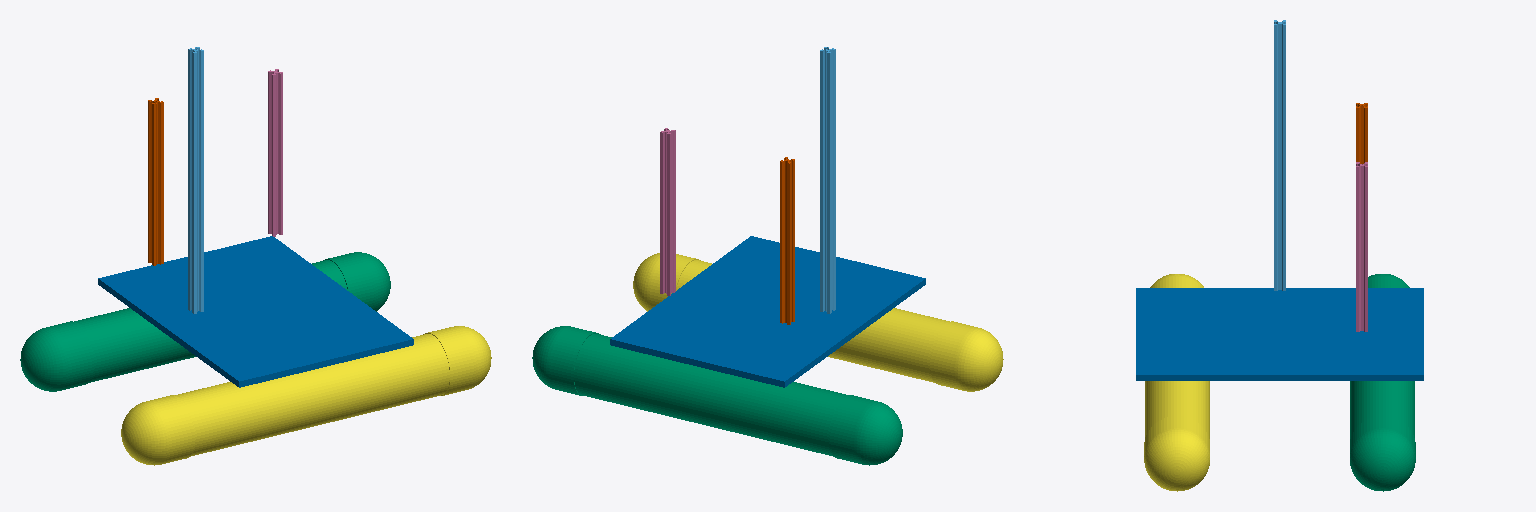
robot.urdf — asv_station_keeping_diag:
<?xml version='1.0' encoding='utf-8'?>
<robot name="asv_station_keeping_diag">
  <!-- Mesh-loading test only. Mounting poses are estimates, not Fusion occurrence transforms. 00_base has no visuals. -->
  <link name="base_footprint" />
  <link name="base_link">
    <inertial>
      <origin xyz="0 0 0" rpy="0 0 0" />
      <mass value="0.1" />
      <inertia ixx="0.0001" ixy="0" ixz="0" iyy="0.0001" iyz="0" izz="0.0001" />
    </inertial>
  </link>
  <link name="hull_left">
    <inertial>
      <origin xyz="0.0017543 -0.0000047 -0.0000010" rpy="0 0 0" />
      <mass value="8.7513272838" />
      <inertia ixx="0.0159438897" ixy="0" ixz="0" iyy="0.7485544942" iyz="0" izz="0.7485544942" />
    </inertial>
    <visual name="hull_left_visual">
      <origin xyz="-0.971730 0.357754 -1.641617" rpy="0 0 -1.57079632679" />
      <geometry>
        <mesh filename="package://asv_station_keeping/meshes/hull.stl" scale="0.001 0.001 0.001" />
      </geometry>
    </visual>
    <collision name="hull_left_collision">
      <geometry>
        <box size="0.724805 0.112973 0.112998" />
      </geometry>
    </collision>
  </link>
  <link name="hull_right">
    <inertial>
      <origin xyz="0.0017543 -0.0000047 -0.0000010" rpy="0 0 0" />
      <mass value="8.7513272838" />
      <inertia ixx="0.0159438897" ixy="0" ixz="0" iyy="0.7485544942" iyz="0" izz="0.7485544942" />
    </inertial>
    <visual name="hull_right_visual">
      <origin xyz="-0.971730 0.357754 -1.641617" rpy="0 0 -1.57079632679" />
      <geometry>
        <mesh filename="package://asv_station_keeping/meshes/hull.stl" scale="0.001 0.001 0.001" />
      </geometry>
    </visual>
    <collision name="hull_right_collision">
      <geometry>
        <box size="0.724805 0.112973 0.112998" />
      </geometry>
    </collision>
  </link>
  <link name="base_deck">
    <inertial>
      <origin xyz="0 0 0" rpy="0 0 0" />
      <mass value="16.1553" />
      <inertia ixx="0.3234344911" ixy="0" ixz="0" iyy="0.1651125511" iyz="0" izz="0.4881593150" />
    </inertial>
    <visual name="base_deck_visual">
      <origin xyz="-0.142254 -0.216347 -0.006000" rpy="1.57079632679 0 0" />
      <geometry>
        <mesh filename="package://asv_station_keeping/meshes/base_deck.stl" scale="0.001 0.001 0.001" />
      </geometry>
    </visual>
    <collision name="base_deck_collision">
      <geometry>
        <box size="0.350 0.490 0.012" />
      </geometry>
    </collision>
  </link>
  <link name="frame1_left">
    <inertial>
      <origin xyz="0 0 0" />
      <mass value="0.41469714" />
      <inertia ixx="0.00333785" ixy="0" ixz="0" iyy="0.00333785" iyz="0" izz="0.0000336422" />
    </inertial>
    <visual>
      <geometry>
        <mesh filename="package://asv_station_keeping/meshes/frame1.stl" scale="0.001 0.001 0.001" />
      </geometry>
    </visual>
    <collision>
      <geometry>
        <cylinder radius="0.010" length="0.310" />
      </geometry>
    </collision>
  </link>
  <link name="frame1_right">
    <inertial>
      <origin xyz="0 0 0" />
      <mass value="0.41469714" />
      <inertia ixx="0.00333785" ixy="0" ixz="0" iyy="0.00333785" iyz="0" izz="0.0000336422" />
    </inertial>
    <visual>
      <geometry>
        <mesh filename="package://asv_station_keeping/meshes/frame1.stl" scale="0.001 0.001 0.001" />
      </geometry>
    </visual>
    <collision>
      <geometry>
        <cylinder radius="0.010" length="0.310" />
      </geometry>
    </collision>
  </link>
  <link name="frame2_left">
    <inertial>
      <origin xyz="0 0 0" />
      <mass value="0.66886635" />
      <inertia ixx="0.01396185" ixy="0" ixz="0" iyy="0.01396185" iyz="0" izz="0.000054262" />
    </inertial>
    <visual>
      <geometry>
        <mesh filename="package://asv_station_keeping/meshes/frame2.stl" scale="0.001 0.001 0.001" />
      </geometry>
    </visual>
    <collision>
      <geometry>
        <cylinder radius="0.010" length="0.500" />
      </geometry>
    </collision>
  </link>
  <link name="frame2_right">
    <inertial>
      <origin xyz="0 0 0" />
      <mass value="0.66886635" />
      <inertia ixx="0.01396185" ixy="0" ixz="0" iyy="0.01396185" iyz="0" izz="0.000054262" />
    </inertial>
    <visual>
      <geometry>
        <mesh filename="package://asv_station_keeping/meshes/frame2.stl" scale="0.001 0.001 0.001" />
      </geometry>
    </visual>
    <collision>
      <geometry>
        <cylinder radius="0.010" length="0.500" />
      </geometry>
    </collision>
  </link>
  <link name="frame3_left">
    <inertial>
      <origin xyz="0 0 0" />
      <mass value="0.66886635" />
      <inertia ixx="0.01396185" ixy="0" ixz="0" iyy="0.01396185" iyz="0" izz="0.000054262" />
    </inertial>
    <visual>
      <geometry>
        <mesh filename="package://asv_station_keeping/meshes/frame3.stl" scale="0.001 0.001 0.001" />
      </geometry>
    </visual>
    <collision>
      <geometry>
        <cylinder radius="0.010" length="0.500" />
      </geometry>
    </collision>
  </link>
  <joint name="base_footprint_to_base_link" type="fixed">
    <parent link="base_footprint" />
    <child link="base_link" />
    <origin xyz="0 0 0" rpy="0 0 0" />
  </joint>
  <joint name="base_to_hull_left" type="fixed">
    <parent link="base_link" />
    <child link="hull_left" />
    <origin xyz="0 0.175 0.055" rpy="0 0 0" />
  </joint>
  <joint name="base_to_hull_right" type="fixed">
    <parent link="base_link" />
    <child link="hull_right" />
    <origin xyz="0 -0.175 0.055" rpy="0 0 0" />
  </joint>
  <joint name="base_to_base_deck" type="fixed">
    <parent link="base_link" />
    <child link="base_deck" />
    <origin xyz="0 0 0.145" rpy="0 0 0" />
  </joint>
  <joint name="deck_to_frame1_left" type="fixed">
    <parent link="base_deck" />
    <child link="frame1_left" />
    <origin xyz="-0.12 0.14 0.22" />
  </joint>
  <joint name="deck_to_frame1_right" type="fixed">
    <parent link="base_deck" />
    <child link="frame1_right" />
    <origin xyz="0.12 0.14 0.22" />
  </joint>
  <joint name="deck_to_frame2_left" type="fixed">
    <parent link="base_deck" />
    <child link="frame2_left" />
    <origin xyz="-0.12 -0.14 0.28" />
  </joint>
  <joint name="deck_to_frame2_right" type="fixed">
    <parent link="base_deck" />
    <child link="frame2_right" />
    <origin xyz="0.12 -0.14 0.28" />
  </joint>
  <joint name="deck_to_frame3_left" type="fixed">
    <parent link="base_deck" />
    <child link="frame3_left" />
    <origin xyz="-0.12 0 0.28" />
  </joint>
</robot>

--- Render facts (derived) ---
The picture shows the robot from 3 angles, left to right: view 1: azimuth 30°, elevation 25°; view 2: azimuth 150°, elevation 25°; view 3: azimuth 270°, elevation 25°; orthographic projection.
Robot: asv_station_keeping_diag — 10 links, 9 joints (9 fixed); root link base_footprint; default pose: every joint at zero.
Visible links, largest first — view 1: base_deck, hull_right, hull_left, frame3_left, frame1_left, frame1_right; view 2: base_deck, hull_left, hull_right, frame3_left, frame1_right, frame1_left; view 3: base_deck, hull_right, hull_left, frame3_left, frame1_right, frame1_left.
Boxes of the visible links, x1=… form: base_deck: x1=98, y1=236, x2=413, y2=387; hull_right: x1=121, y1=326, x2=491, y2=465; hull_left: x1=20, y1=252, x2=390, y2=391; frame3_left: x1=188, y1=47, x2=203, y2=313; frame1_left: x1=148, y1=98, x2=163, y2=265; frame1_right: x1=268, y1=69, x2=282, y2=236; base_deck: x1=610, y1=236, x2=925, y2=387; hull_left: x1=532, y1=326, x2=902, y2=465; hull_right: x1=633, y1=253, x2=1003, y2=391; frame3_left: x1=820, y1=47, x2=835, y2=313; frame1_right: x1=660, y1=128, x2=675, y2=295; frame1_left: x1=780, y1=157, x2=794, y2=324; base_deck: x1=1136, y1=288, x2=1423, y2=380; hull_right: x1=1144, y1=274, x2=1209, y2=491; hull_left: x1=1350, y1=274, x2=1415, y2=491; frame3_left: x1=1274, y1=20, x2=1285, y2=290; frame1_right: x1=1356, y1=162, x2=1367, y2=331; frame1_left: x1=1356, y1=103, x2=1367, y2=163.
Size in the robot's own frame: 0.7248 by 0.49 by 0.6765 metres.
6 mesh visuals loaded from 5 distinct referenced files (4 binary STL); not drawn: 2 (reference not matched to a file when rendering).
